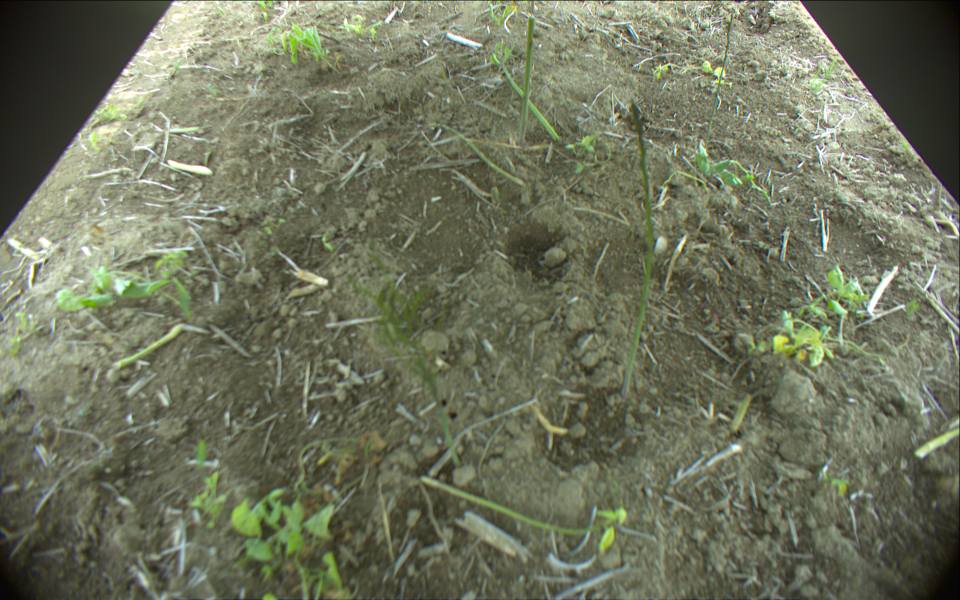aspa: (423, 476, 620, 537), (621, 101, 654, 402), (494, 56, 563, 141), (108, 322, 204, 372), (704, 14, 735, 150), (518, 16, 537, 148), (913, 424, 960, 456), (730, 393, 754, 437)
